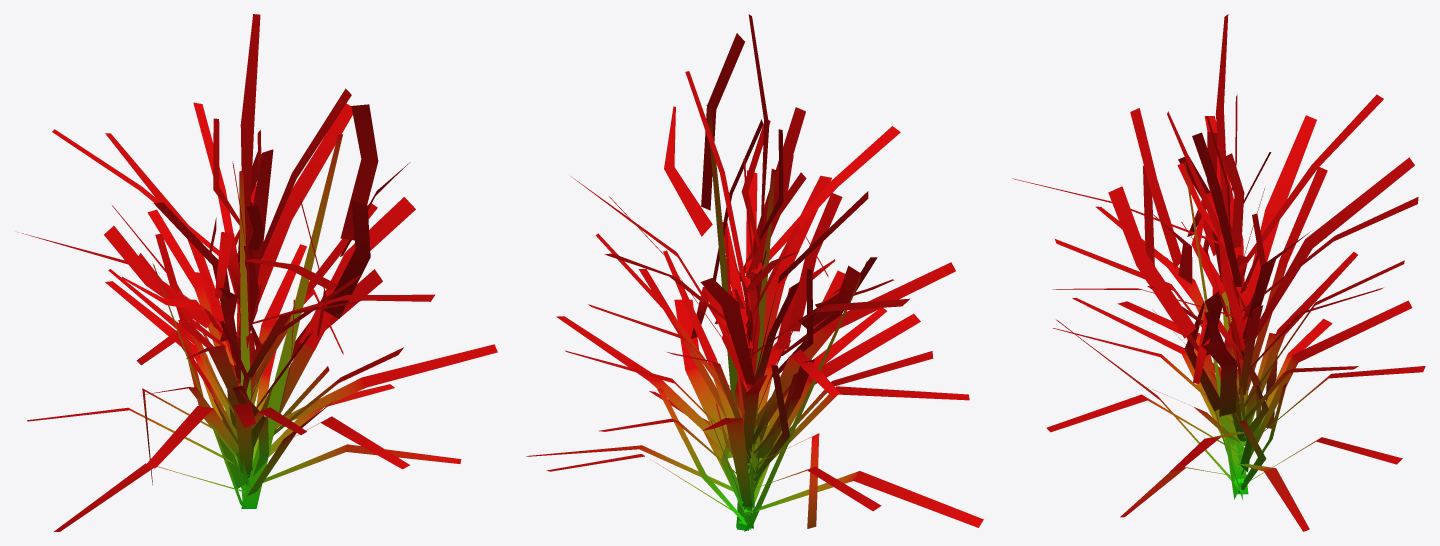
The model's file is Var4_LOD3.fbx.
3 renders of one model, left to right at view 1: azimuth 30°, elevation 25°; view 2: azimuth 150°, elevation 25°; view 3: azimuth 270°, elevation 25°, orthographic. The views are drawn at different scales.
Visible parts, largest first — view 1: _9ac3_Var4_LOD3; view 2: _9ac3_Var4_LOD3; view 3: _9ac3_Var4_LOD3.
Part boxes in pixels (left/top/right/bottom): _9ac3_Var4_LOD3: left=17, top=14, right=497, bottom=531; _9ac3_Var4_LOD3: left=526, top=14, right=983, bottom=531; _9ac3_Var4_LOD3: left=1012, top=14, right=1425, bottom=531.
Bounding box in the file's own units: 34.4 × 38.35 × 29.75.
